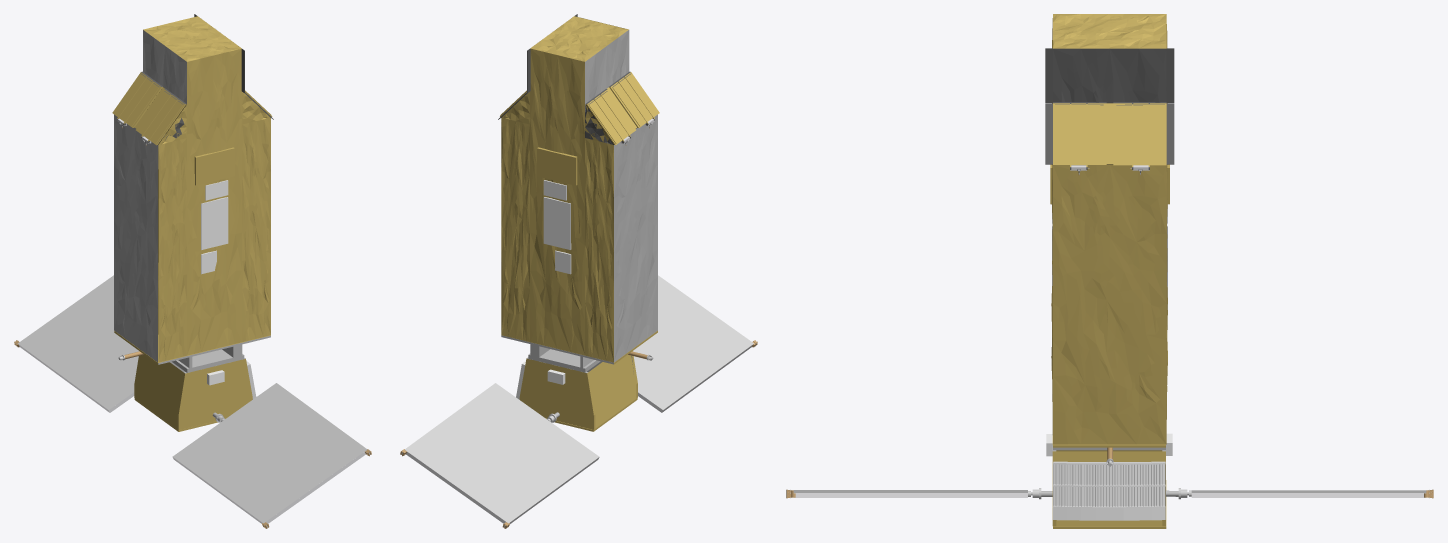
The model's file is far-ultraviolet-spectroscopic-explorer.glb.
The picture shows the model from 3 angles, left to right: view 1: azimuth 30°, elevation 25°; view 2: azimuth 150°, elevation 25°; view 3: azimuth 270°, elevation 25°; orthographic projection. The views are drawn at different scales.
Parts seen in each view (by area): view 1: Layer_0; view 2: Layer_0; view 3: Layer_0.
Boxes of the visible parts, bbox=[...] form: Layer_0: bbox=[14, 14, 371, 528]; Layer_0: bbox=[400, 14, 757, 528]; Layer_0: bbox=[786, 14, 1433, 528].
Bounding box in the file's own units: 0.3964 × 1.01 × 1.19.
5 materials, 5 textured.
